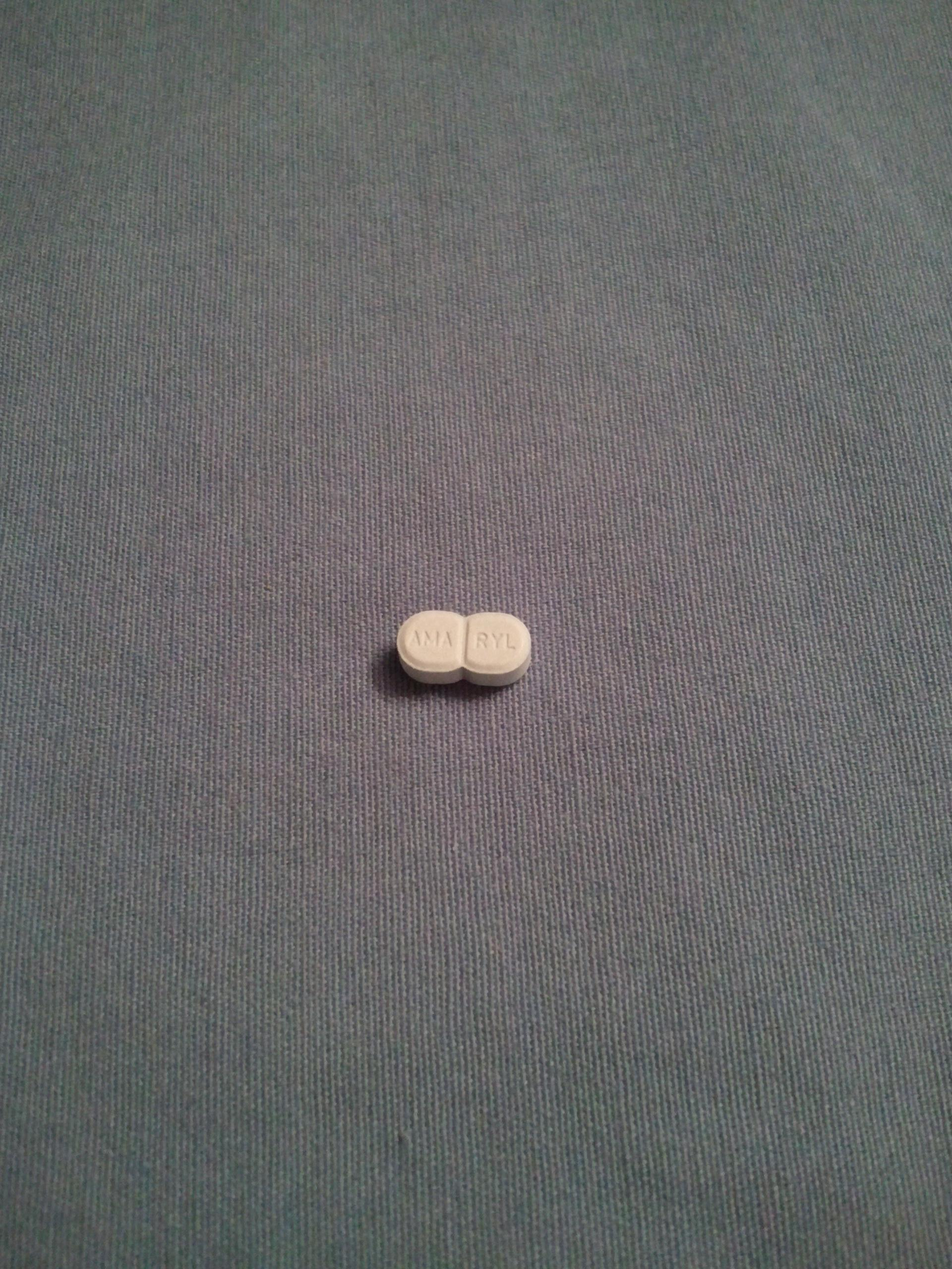Pill: (379, 592, 548, 705)
